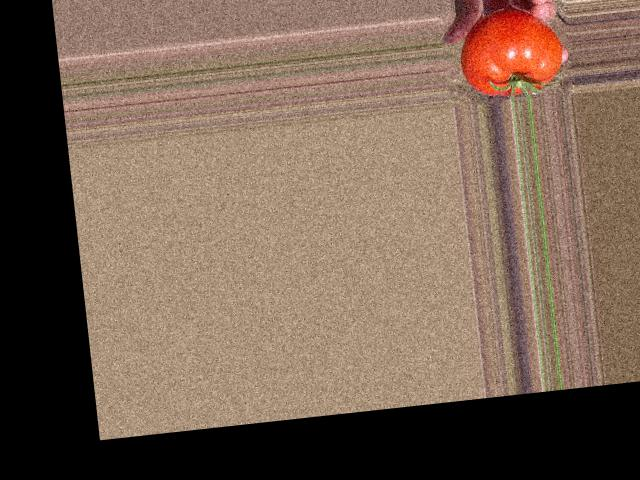tomato: (457, 3, 566, 99)
